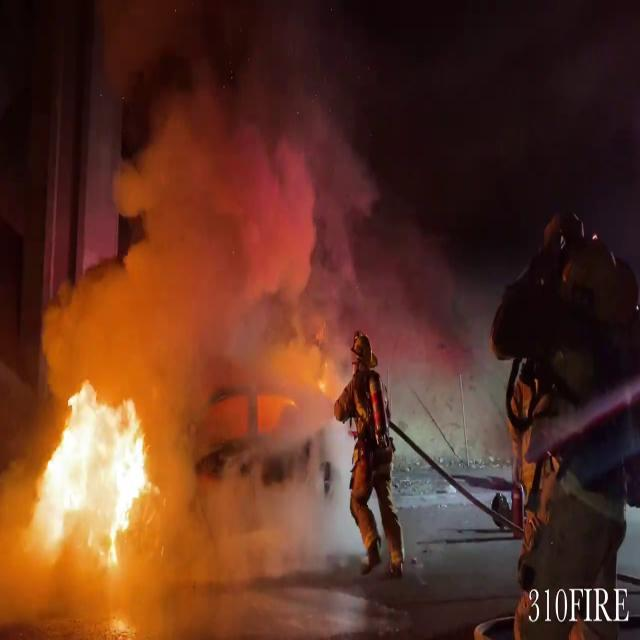Fire: (5, 364, 184, 592)
Smoke: (86, 5, 514, 539)
